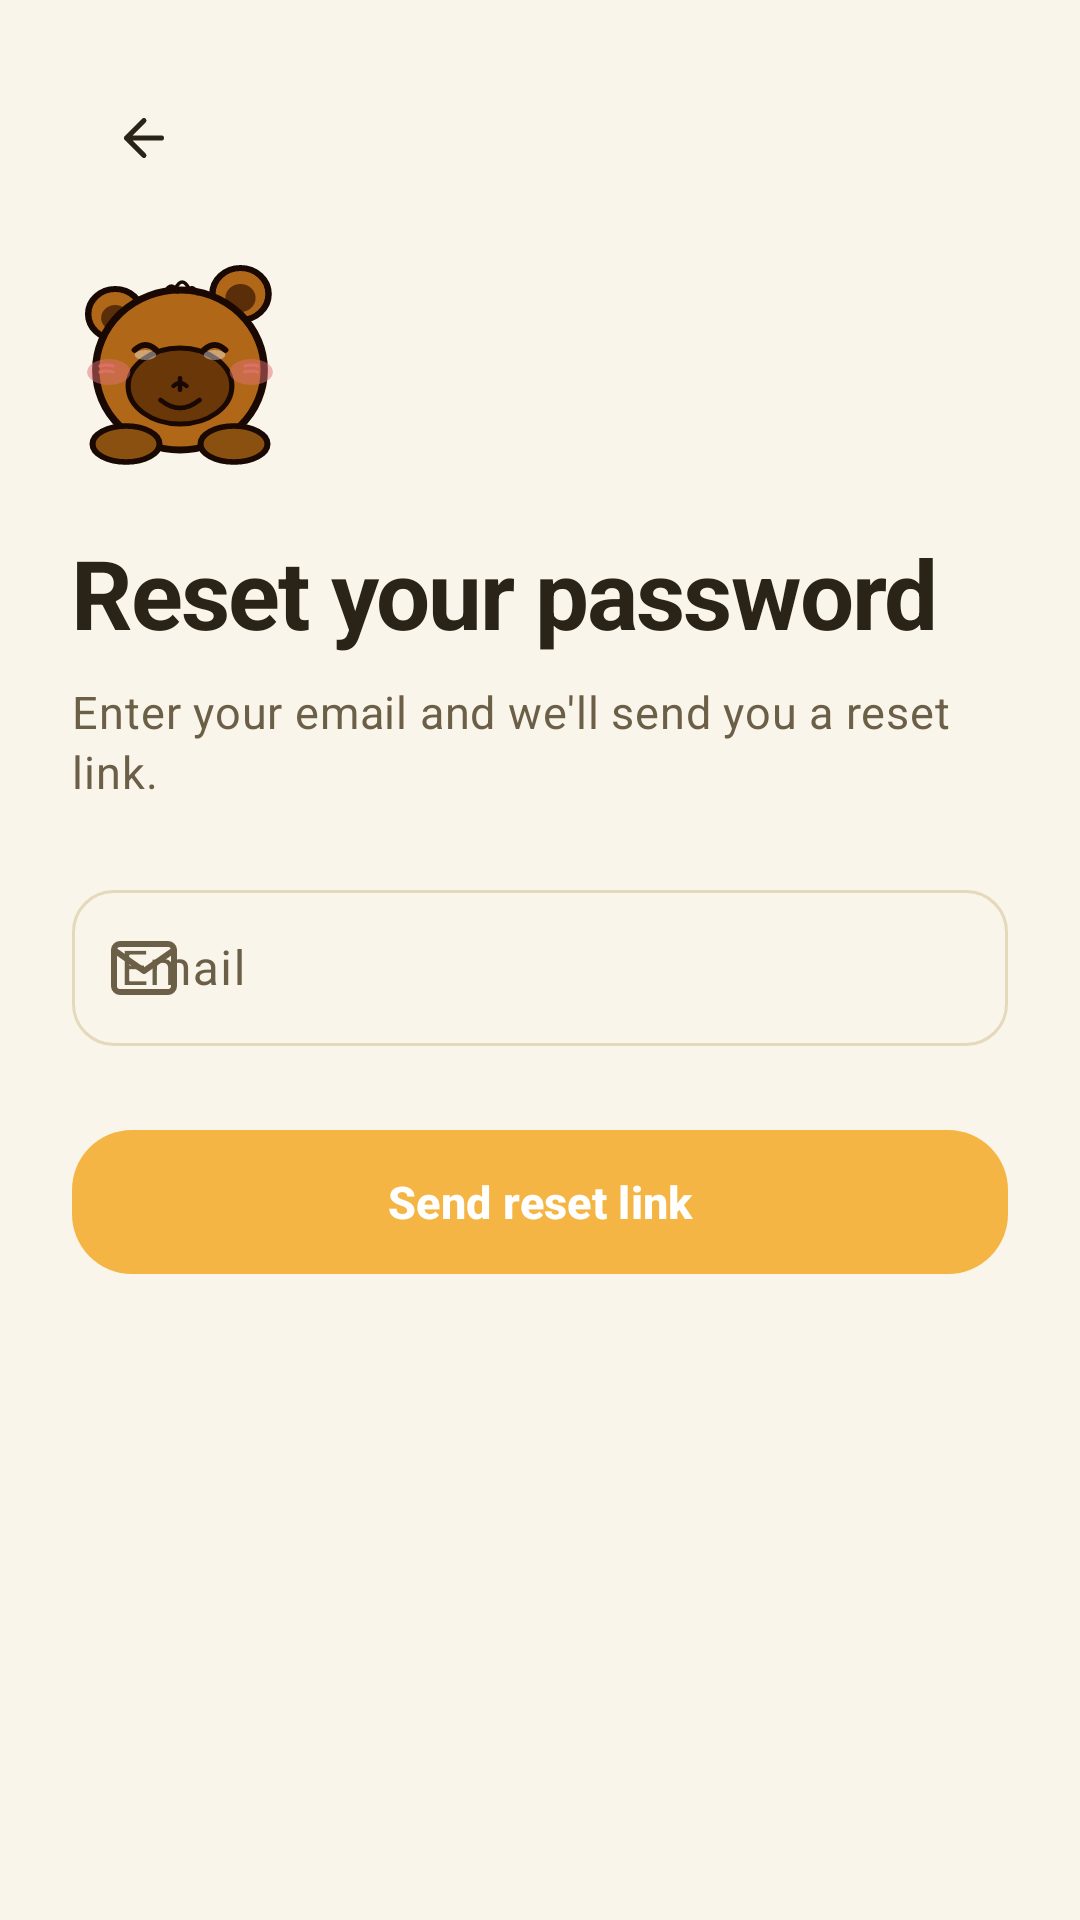

Screen size 1080w x 1920h. Icon name, then its center in pixels as (x=x, y=y):
Back: (x=144, y=138)
